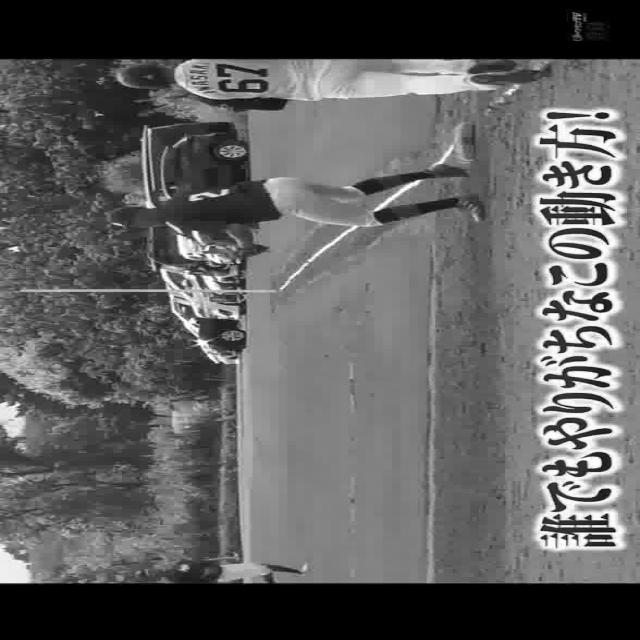base: (459, 122, 476, 164)
baseball_glove: (224, 240, 266, 260)
shoe: (470, 68, 540, 88), (448, 190, 484, 222), (423, 162, 469, 180), (466, 57, 514, 71)
